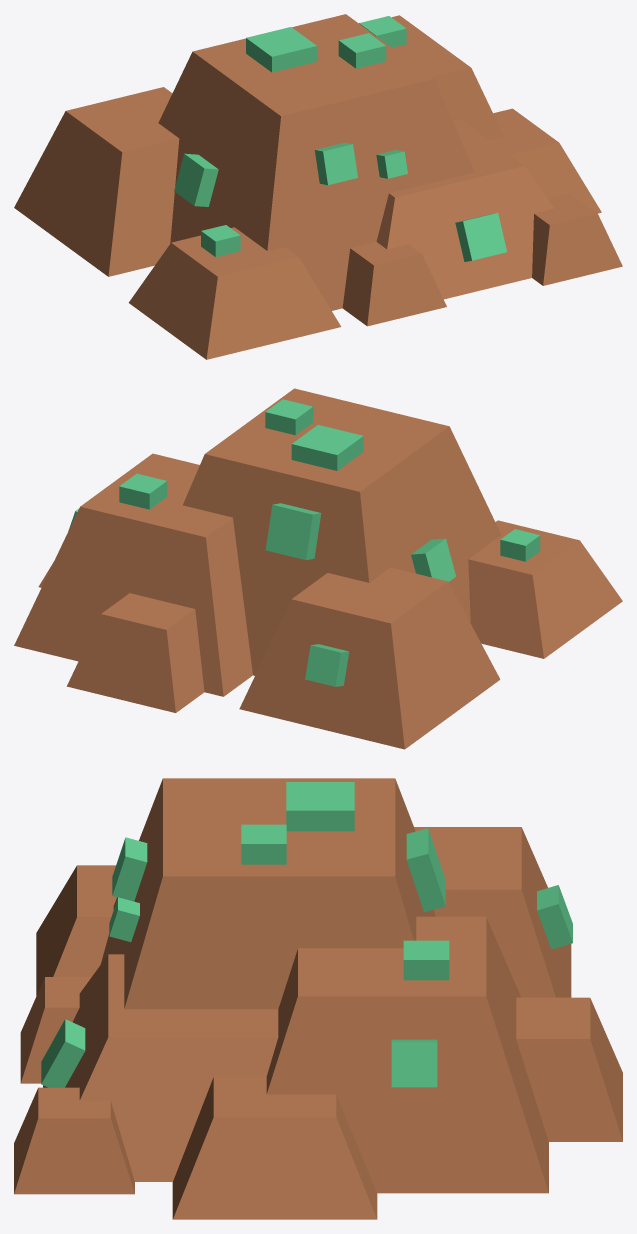
Rendered from rocksOre.fbx.
3 renders of one model, top to bottom at view 1: azimuth 30°, elevation 25°; view 2: azimuth 150°, elevation 25°; view 3: azimuth 270°, elevation 25°, orthographic. The views are drawn at different scales.
Visible parts, largest first — view 1: rocksOre; view 2: rocksOre; view 3: rocksOre.
Boxes of the visible parts, bbox=[...] form: rocksOre: bbox=[14, 14, 622, 359]; rocksOre: bbox=[14, 388, 622, 749]; rocksOre: bbox=[14, 778, 622, 1219].
Size of the model in its own units: 8.93 by 3.7 by 8.03.
